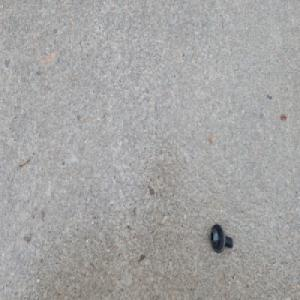BoltWasher: (208, 220, 232, 252)
